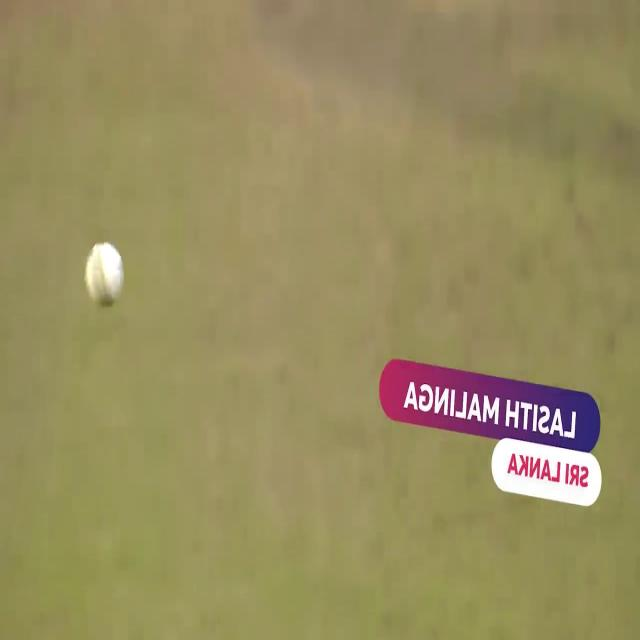ball: (86, 242, 124, 313)
